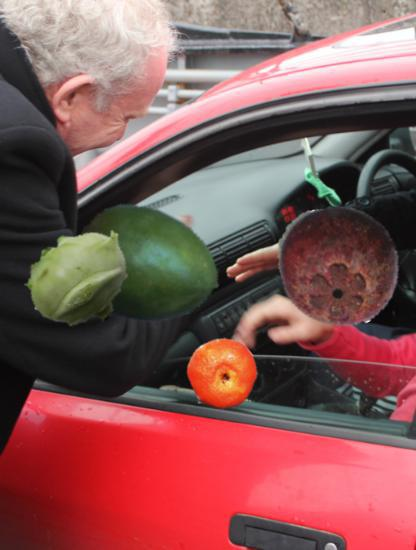Clementine: (185, 338, 259, 412)
Kohlrabi: (26, 222, 138, 334)
Mango: (72, 195, 219, 342)
Mangostan: (277, 204, 403, 330)
Melon: (276, 207, 381, 312)
